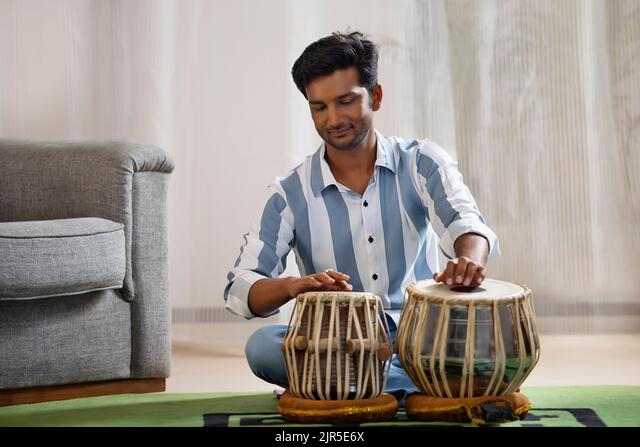tabla: (400, 276, 542, 399), (282, 292, 388, 404)
